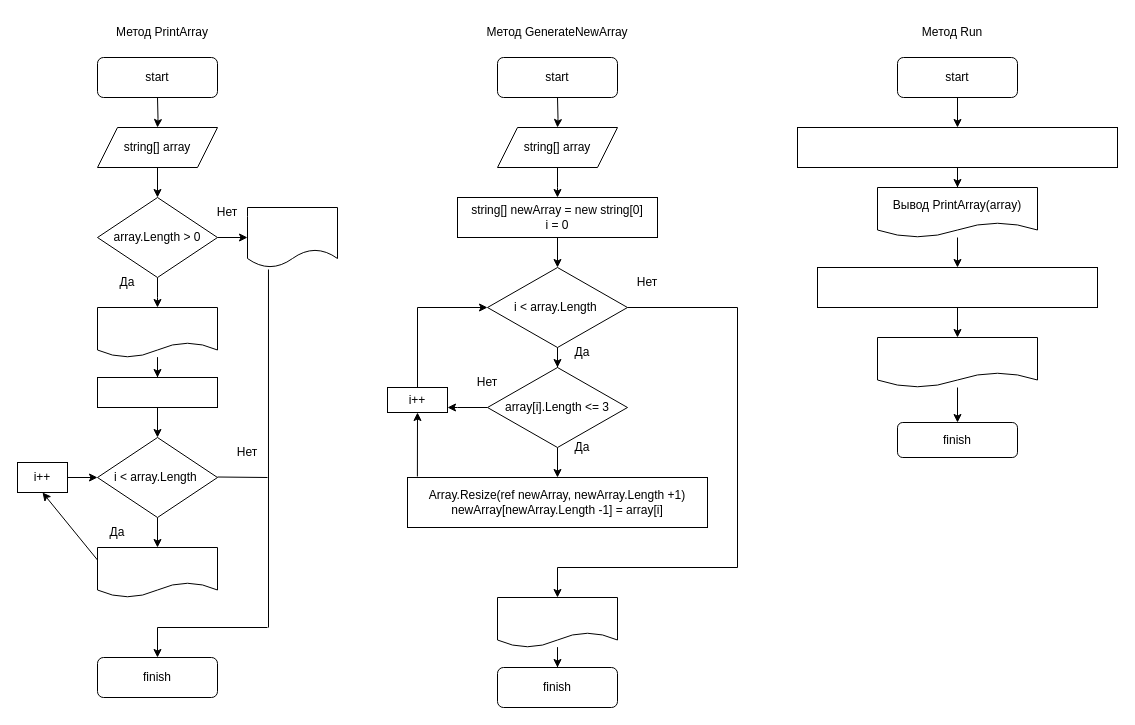
Some shapes in this 1135 by 725 pixel diagram are drawn without their labels. The centre of each missing label's shape, as x and y in pixels:
i = 1: the point at 157,392
string[] array = new string[] {Ввод элементов массива}: the point at 957,147
string[] newArray = GenerateNewArray(array): the point at 957,287
В массиве нет элементов: the point at 292,237
Вывод array[0]: the point at 157,332
Вывод array[i]: the point at 157,572
Вывод newArray: the point at 557,622
Вывод PrintArray(newArray): the point at 957,362
